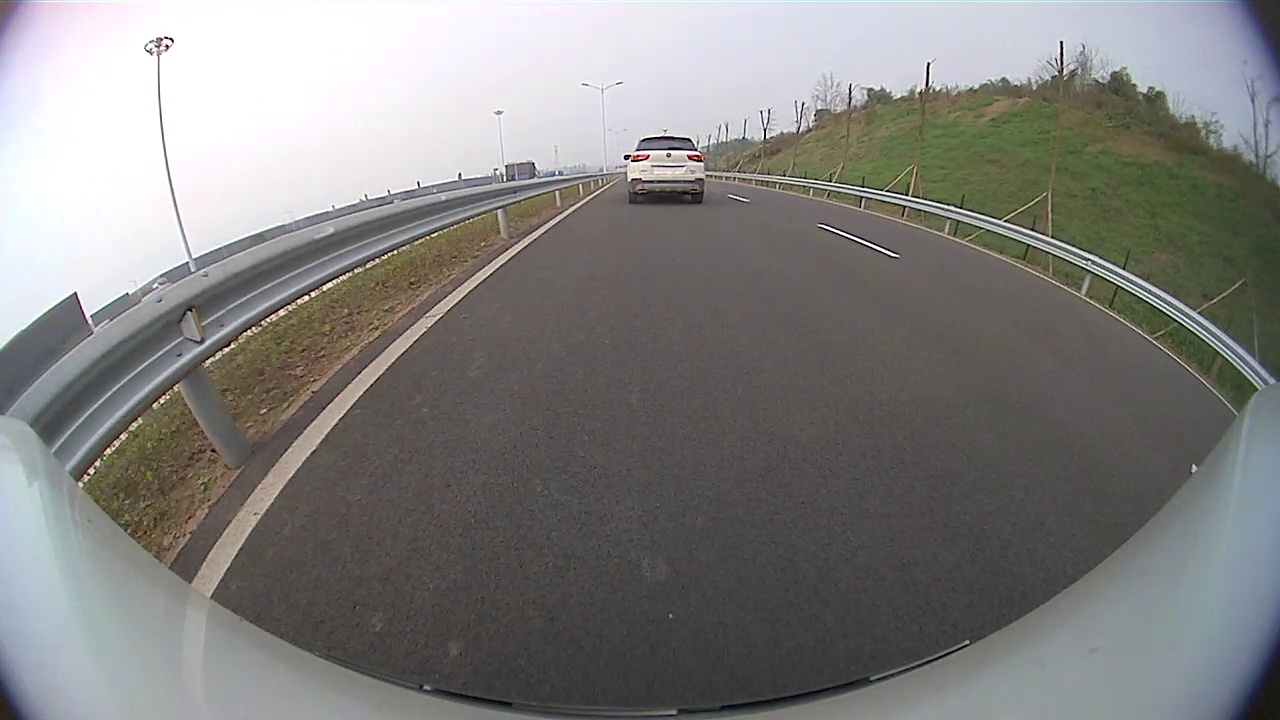car: (623, 135, 706, 205)
